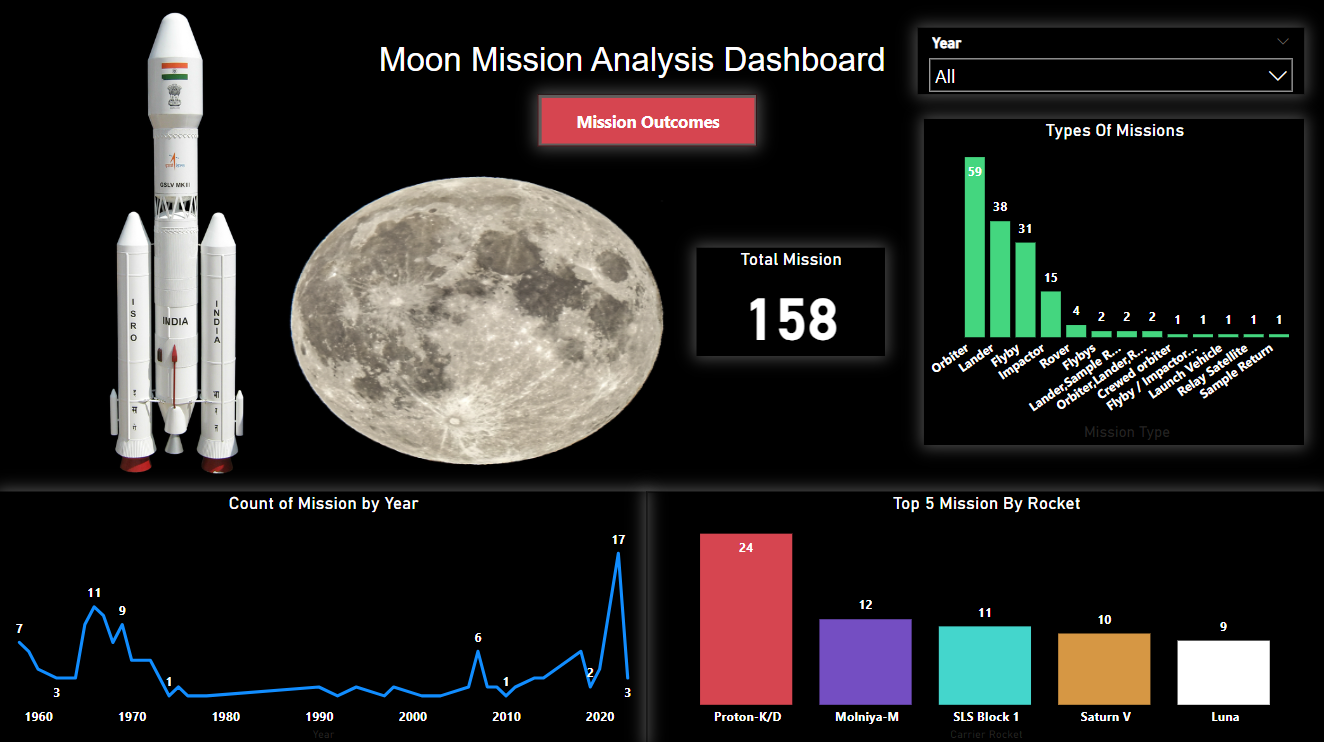

The page's visual inventory and layout, read from the dashboard file:
{"tool":"powerbi","page":{"name":"Moon Mission By Rocket Carrier","canvas":[1280,720],"ordinal":1},"visuals":[{"type":"textbox","box":[351.2,36.2,520,55],"z":0},{"type":"slicer","fields":{"Values":["Calendar.Year"]},"box":[886.2,27.5,372.5,63.8],"z":1000},{"type":"card","title":"Total Mission","fields":{"Values":["CountNonNull(Moonlanding.Mission)"]},"box":[672.5,240,181.2,103.8],"z":2000},{"type":"image","box":[0,6.2,342.5,458.8],"z":3000},{"type":"lineChart","fields":{"Category":["Calendar.Date.Variation.Date Hierarchy.Year"],"Y":["CountNonNull(Moonlanding.Mission)"]},"box":[0,475,625,245],"z":4000},{"type":"columnChart","title":"Top 5 Mission By Rocket","fields":{"Category":["Moonlanding.Carrier Rocket"],"Y":["CountNonNull(Moonlanding.Mission)"]},"box":[625,475,655,245],"z":5000},{"type":"columnChart","title":"Types Of Missions","fields":{"Category":["Moonlanding.Mission Type"],"Y":["CountNonNull(Moonlanding.Mission)"]},"box":[892.5,115.8,366.6,314.8],"z":6000},{"type":"actionButton","box":[520,91.2,211.2,50],"z":7000}]}

Visuals, with their boxes in screenshot pixels (x1, y1, x2, y2), scaled from the page's 1280x720 canvas onto the 1324x742 screenshot:
textbox: region(363, 37, 901, 94)
slicer - Calendar.Year: region(917, 28, 1302, 94)
"Total Mission" card: region(696, 247, 883, 354)
image: region(0, 6, 354, 479)
lineChart - Calendar.Date.Variation.Date Hierarchy.Year x CountNonNull(Moonlanding.Mission): region(0, 490, 646, 741)
"Top 5 Mission By Rocket" columnChart: region(646, 490, 1323, 741)
"Types Of Missions" columnChart: region(923, 119, 1302, 444)
actionButton: region(538, 94, 756, 146)
